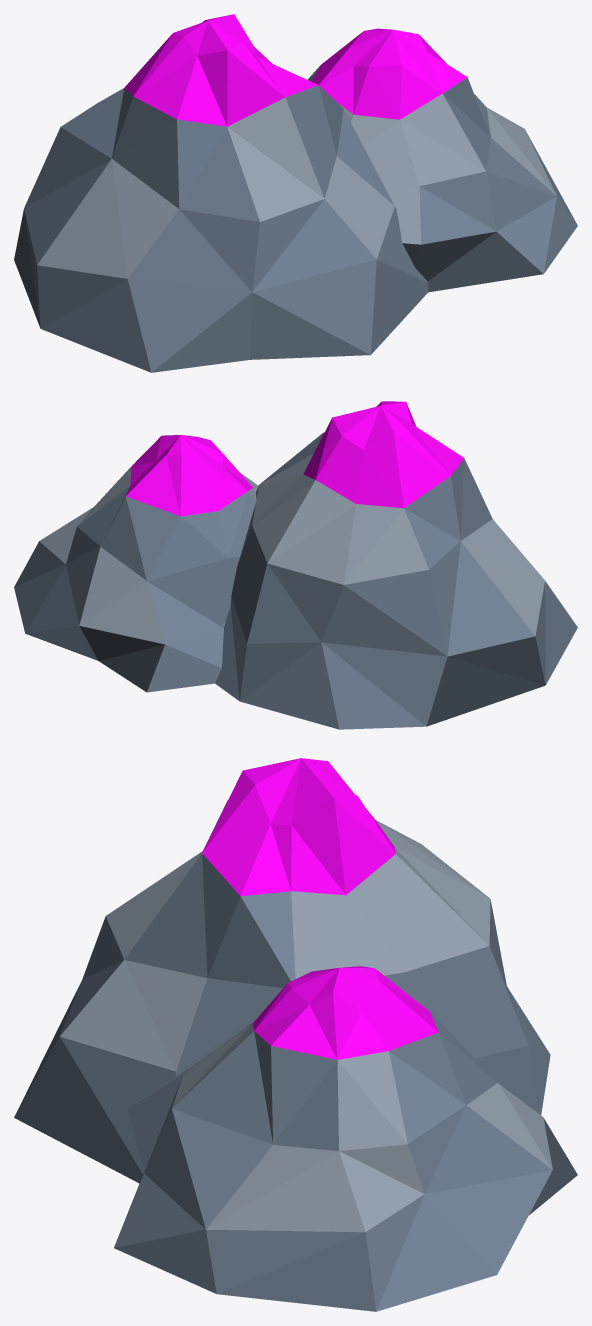
File: SM_Mountain_B.fbx
3 renders of one model, top to bottom at view 1: azimuth 30°, elevation 25°; view 2: azimuth 150°, elevation 25°; view 3: azimuth 270°, elevation 25°, orthographic. The views are drawn at different scales.
Parts seen in each view (by area): view 1: SM_Mountain_B; view 2: SM_Mountain_B; view 3: SM_Mountain_B.
Boxes of the visible parts, x1,y1,x2,y2 form: SM_Mountain_B: [14, 14, 577, 372]; SM_Mountain_B: [14, 401, 577, 729]; SM_Mountain_B: [14, 758, 577, 1311].
Size of the model in its own units: 40.68 by 19 by 29.43.
